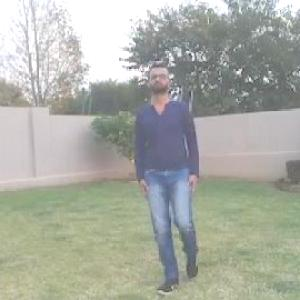follow: (135, 56, 201, 281)
